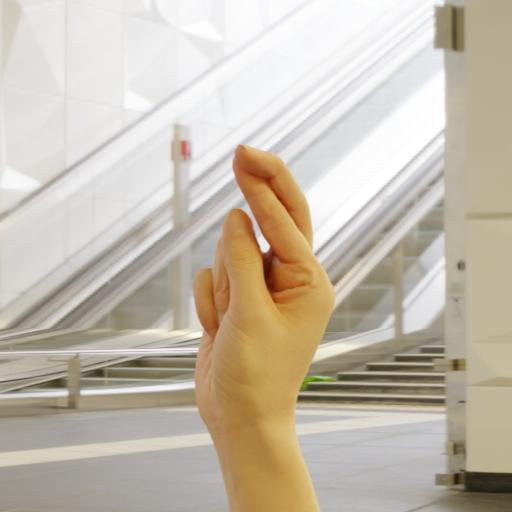R: (190, 132, 340, 440)
